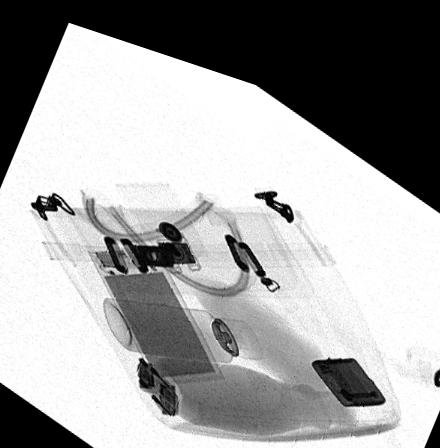Lighter: (310, 333, 387, 383)
Powerbank: (87, 235, 224, 374)
Sprayer: (101, 289, 263, 347)
